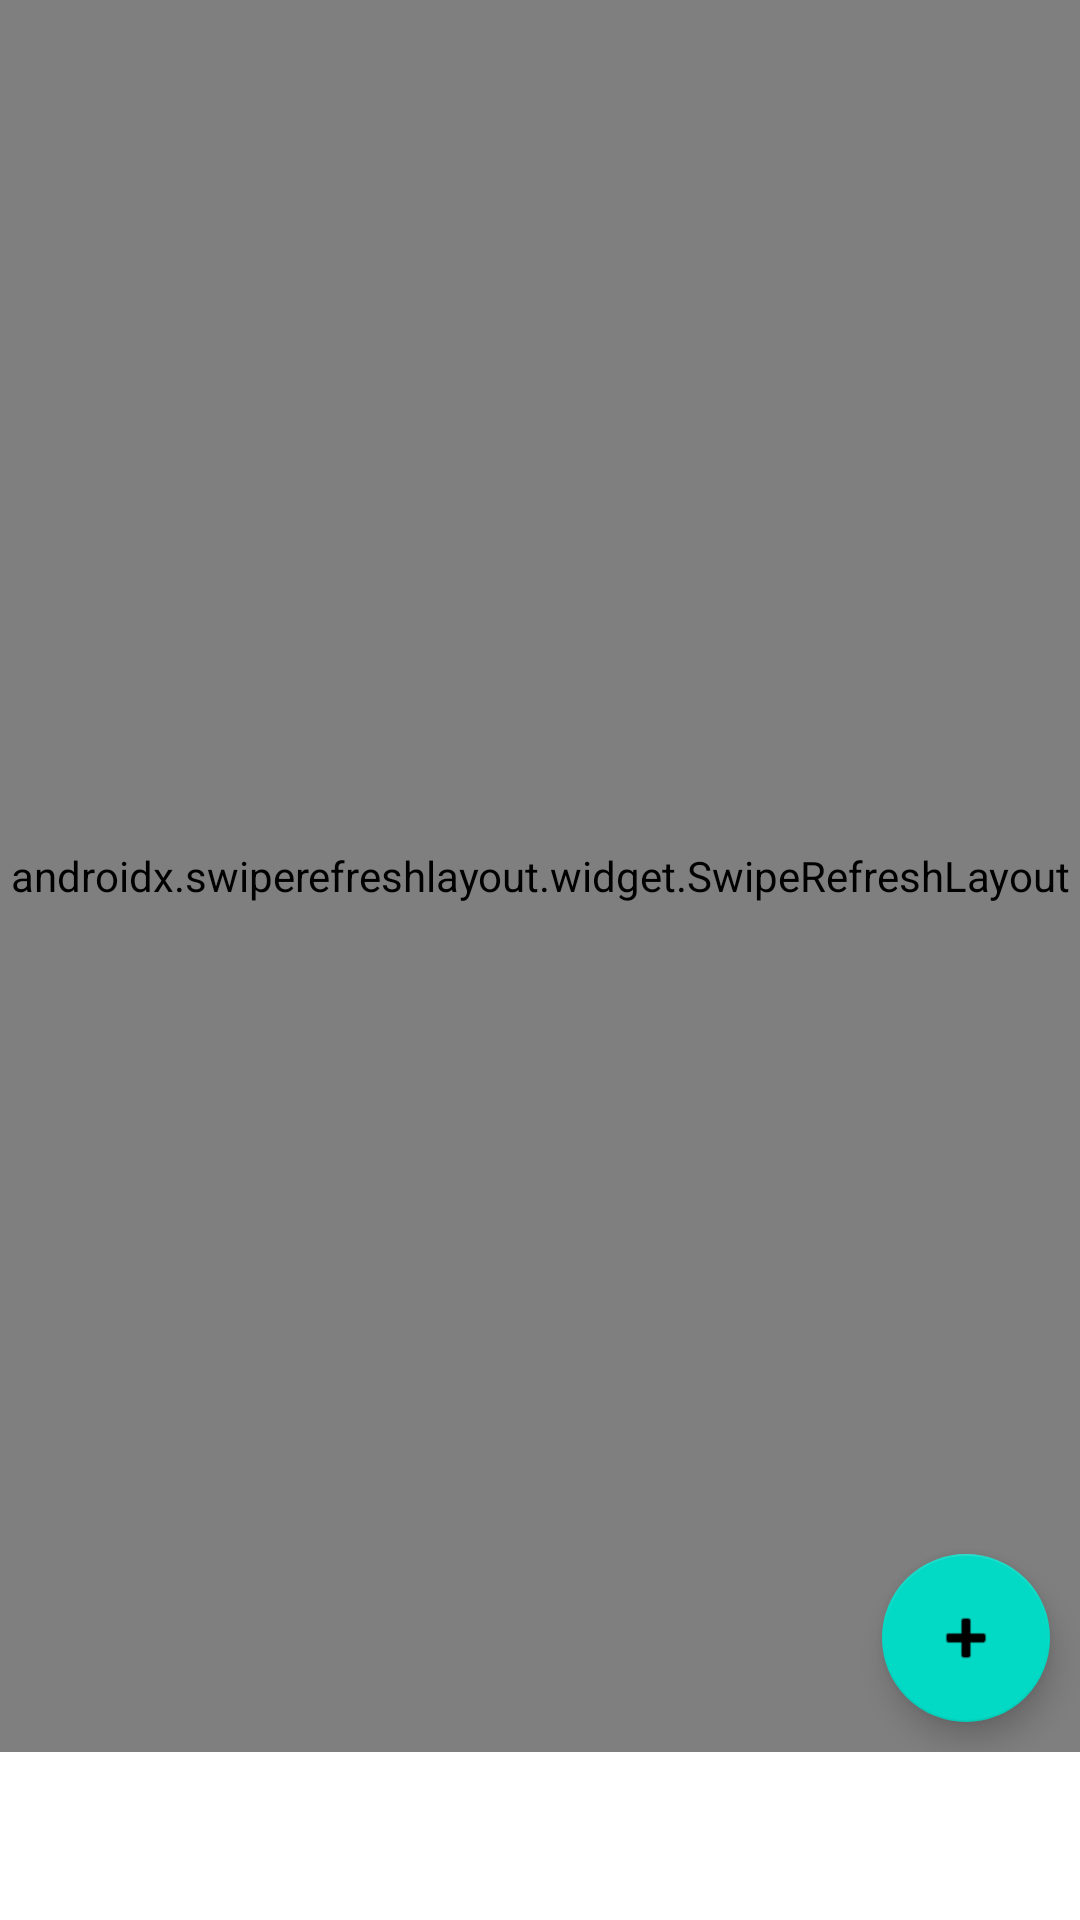

Icon bounding boxes for this 1080 × 1920 phone screenshot, format bbox=[x1, y1, x2, y2]:
Add Report: bbox=[882, 1554, 1050, 1722]
